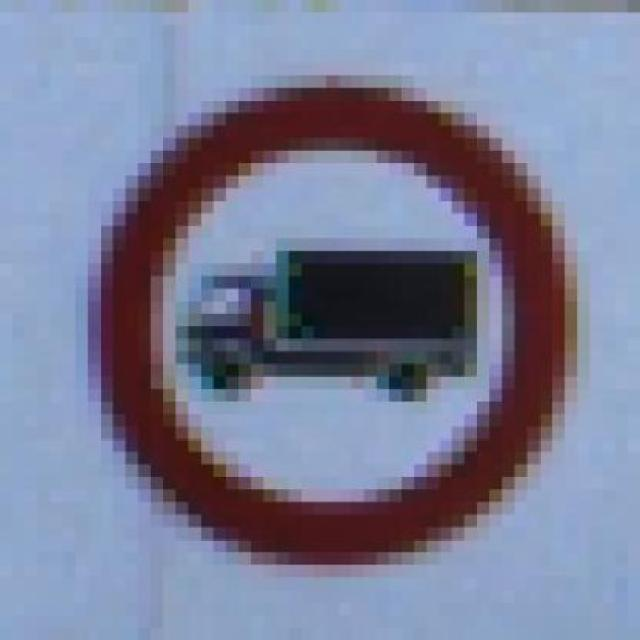Truck traffic is prohibited: (82, 78, 609, 568)
